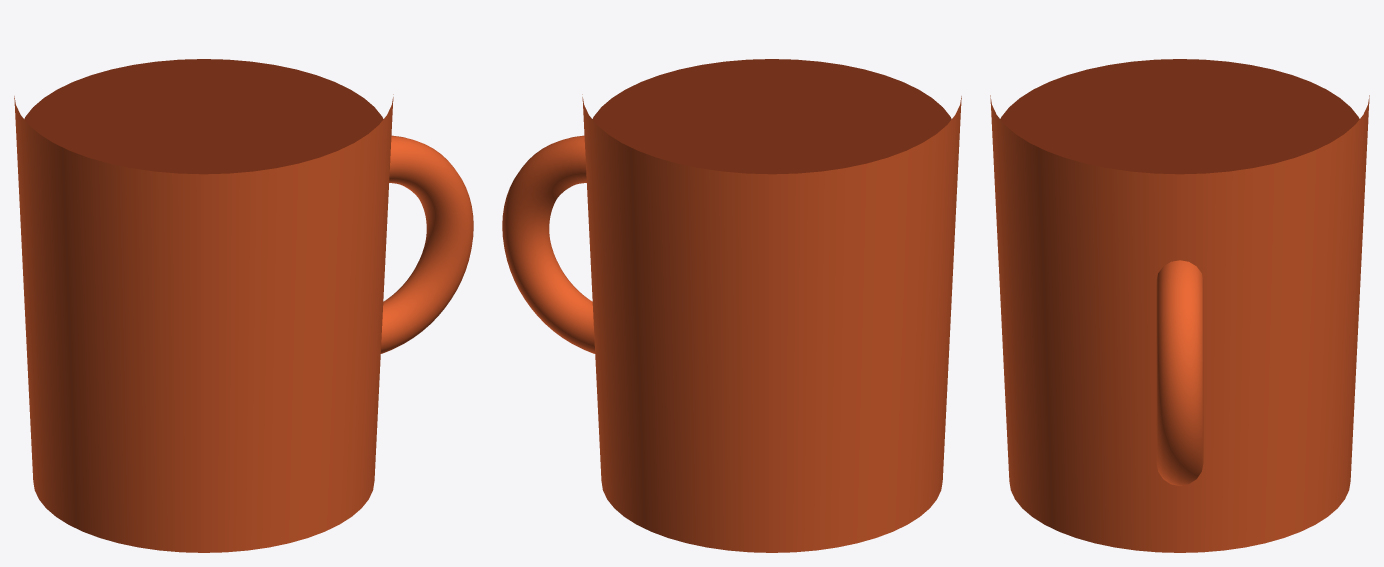
The model's file is model-synthetic.glb.
3 views of the same model, side by side, from view 1: azimuth 30°, elevation 25°; view 2: azimuth 150°, elevation 25°; view 3: azimuth 270°, elevation 25° (orthographic).
Size of the model in its own units: 1.05 by 0.9 by 0.8.
